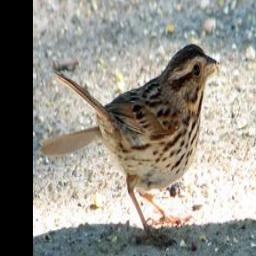Sparrow: (39, 41, 221, 250)
